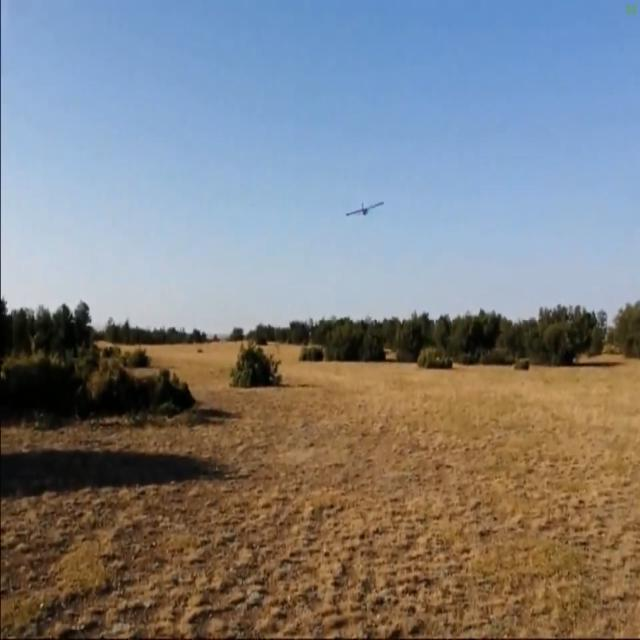Airplane: (339, 191, 391, 227)
